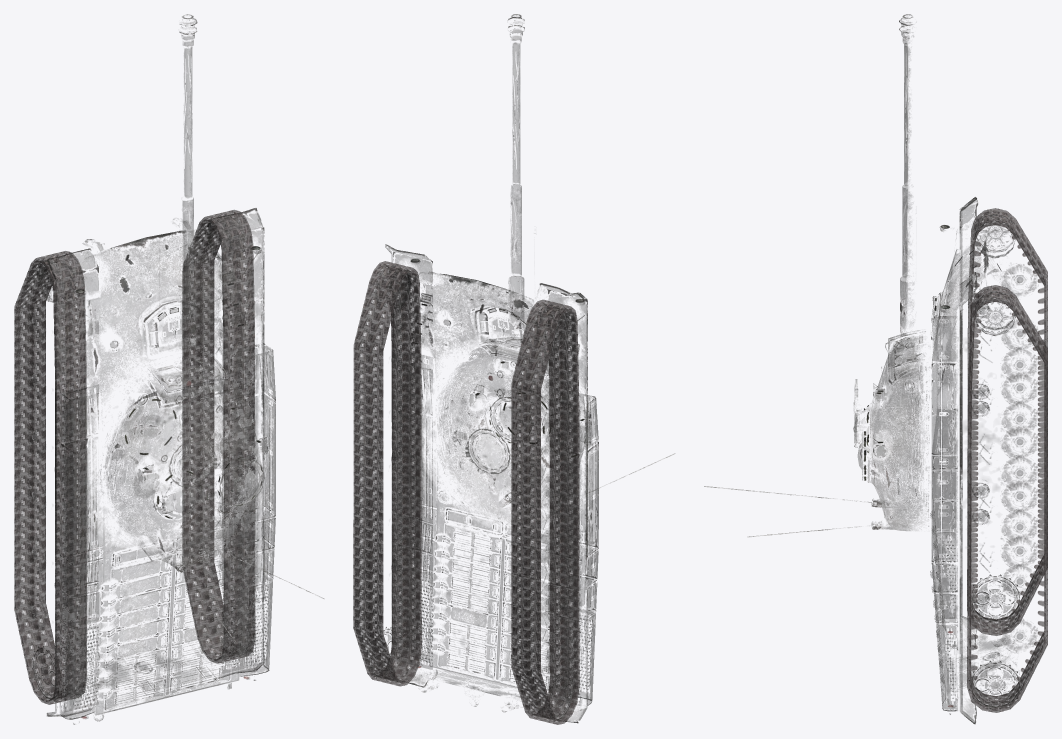
3 renders of one model, left to right at view 1: azimuth 30°, elevation 25°; view 2: azimuth 150°, elevation 25°; view 3: azimuth 270°, elevation 25°, orthographic. The views are drawn at different scales.
Visible parts, largest first — view 1: hull, chassis_track_L, chassis_track_R, turret_01, gun_01, chassis_wheel_L_08; view 2: hull, chassis_track_R, chassis_track_L, turret_01, gun_01, chassis_wheel_L_08, chassis_wheel_L_01; view 3: hull, turret_01, chassis_track_R, chassis_track_L, gun_01, chassis_wheel_R_08, chassis_wheel_L_08, chassis_wheel_R_01, chassis_wheel_L_01.
Boxes of the visible parts, x1,y1,x2,y2 form: hull: (47,208,275,724); chassis_track_L: (14,251,86,704); chassis_track_R: (182,210,255,663); turret_01: (100,365,324,642); gun_01: (148,14,228,403); chassis_wheel_L_08: (32,646,78,700); hull: (385,244,598,723); chassis_track_R: (353,261,421,686); chassis_track_L: (511,299,579,724); turret_01: (434,345,675,524); gun_01: (482,14,552,368); chassis_wheel_L_08: (541,670,574,721); chassis_wheel_L_01: (535,305,570,347); hull: (930,197,1023,724); turret_01: (704,337,929,537); chassis_track_R: (967,285,1047,712); chassis_track_L: (967,208,1047,635); gun_01: (885,14,926,379); chassis_wheel_R_08: (969,655,1021,708); chassis_wheel_L_08: (972,574,1021,629); chassis_wheel_R_01: (974,291,1015,335); chassis_wheel_L_01: (975,214,1015,258).
Size of the model in its own units: 3.07 by 9.97 by 4.7.
Materials: 2 (2 with a texture image).
